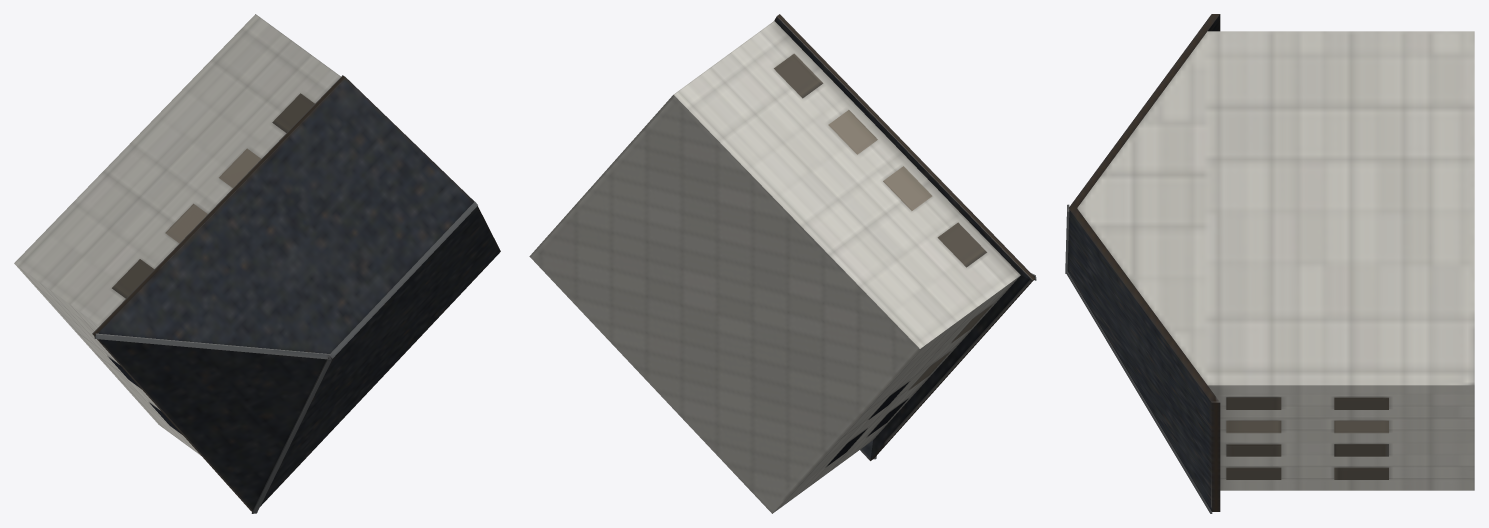
File: house_b0229.obj
The picture shows the model from 3 angles, left to right: view 1: azimuth 30°, elevation 25°; view 2: azimuth 150°, elevation 25°; view 3: azimuth 270°, elevation 25°; orthographic projection. The views are drawn at different scales.
Visible parts, largest first — view 1: house_b0229; view 2: house_b0229; view 3: house_b0229.
Part boxes in pixels (x1=…): house_b0229: x1=14, y1=14, x2=500, y2=513; house_b0229: x1=529, y1=14, x2=1036, y2=513; house_b0229: x1=1065, y1=14, x2=1474, y2=513.
Bounding box in the file's own units: 17.61 × 17.15 × 11.38.
Materials: 1 (1 with a texture image).
